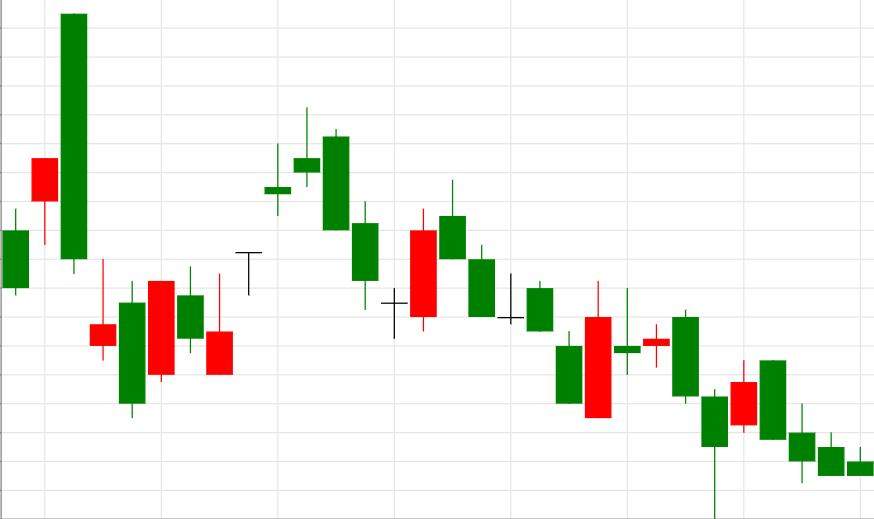morning_star_rise: (294, 107, 437, 340)
